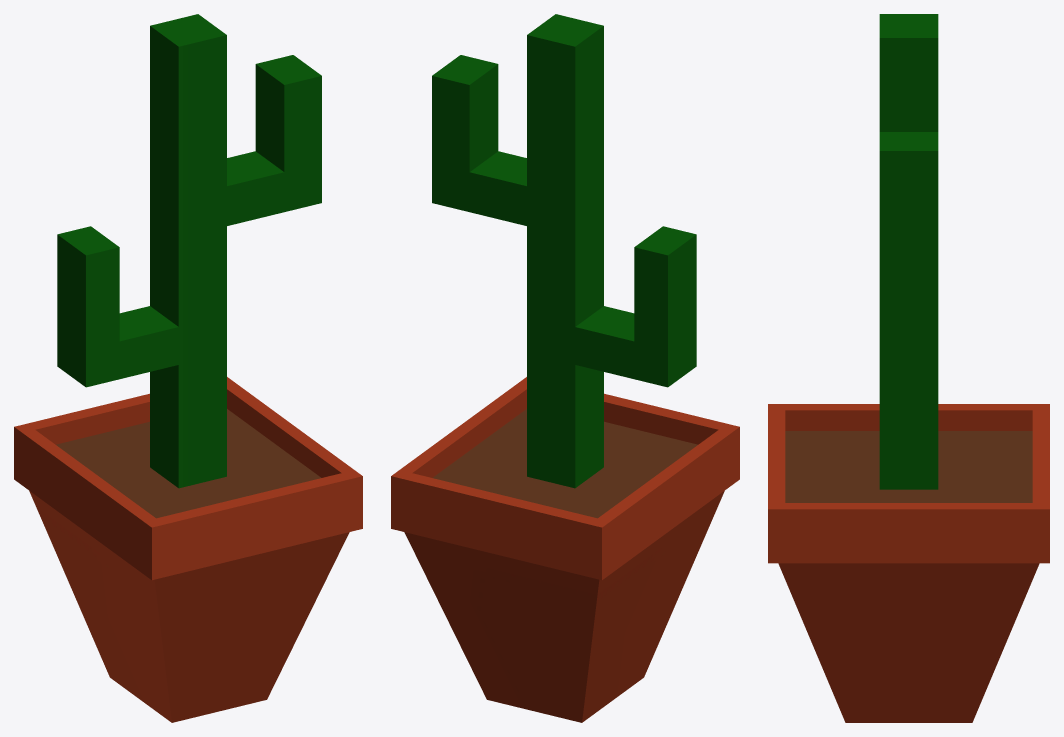
File: PottedCactus.fbx
3 renders of one model, left to right at view 1: azimuth 30°, elevation 25°; view 2: azimuth 150°, elevation 25°; view 3: azimuth 270°, elevation 25°, orthographic. The views are drawn at different scales.
Visible parts, largest first — view 1: Cube, Cube.002, Cube.001; view 2: Cube, Cube.002, Cube.001; view 3: Cube, Cube.002, Cube.001.
Part boxes in pixels (box(x1,y1,x2,y2)): Cube: box(14, 377, 362, 722); Cube.002: box(57, 14, 321, 488); Cube.001: box(56, 409, 320, 518); Cube: box(391, 377, 739, 722); Cube.002: box(432, 14, 696, 488); Cube.001: box(433, 409, 697, 518); Cube: box(768, 404, 1049, 722); Cube.002: box(879, 14, 938, 489); Cube.001: box(785, 431, 1032, 502).
Size of the model in its own units: 139 by 370 by 140.
